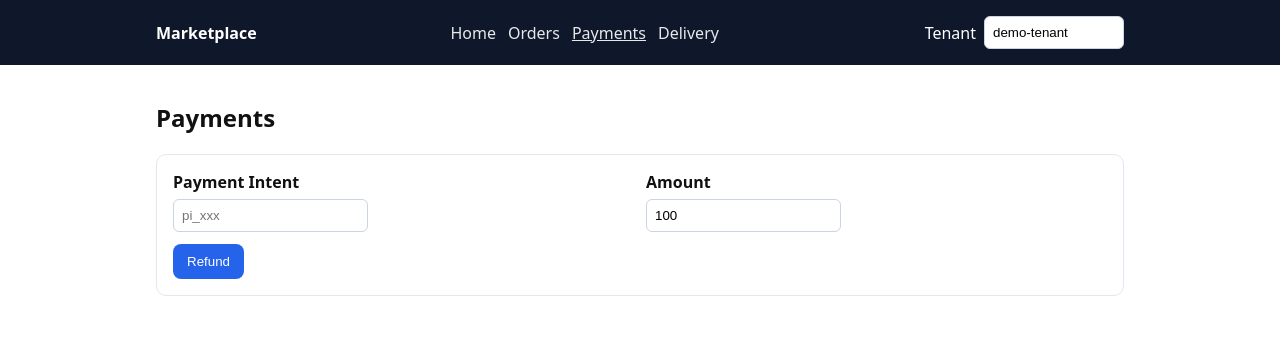
PaymentsPage › refunds payment
This screenshot has width=1280, height=350.
Type "pi_1" into the field labelled "Payment Intent".
click(270, 215); type("pi_1")  # box x1=173 y1=199 x2=368 y2=232
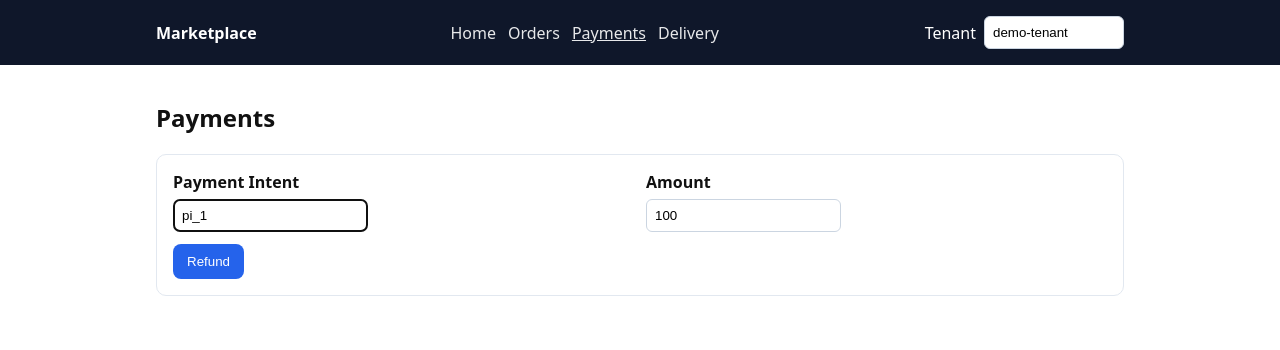
Click the button "Refund".
click(208, 261)  # box x1=173 y1=244 x2=244 y2=279
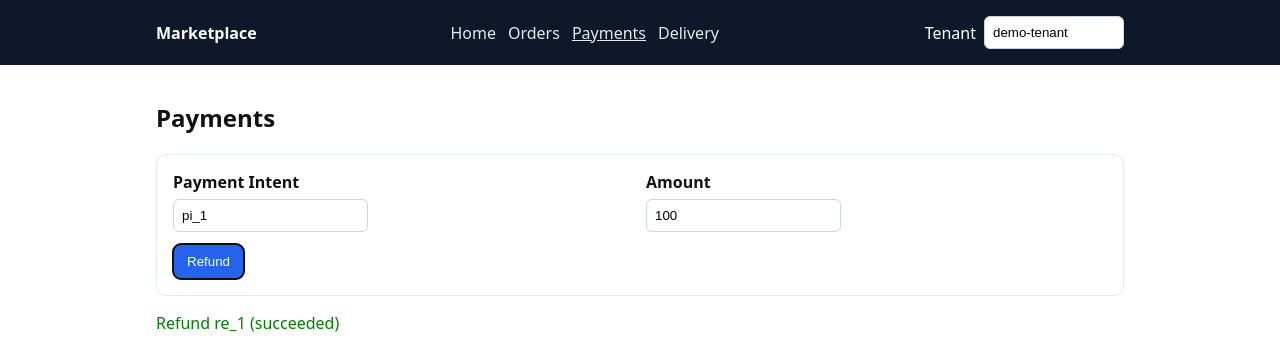
expect the text "Refund re_1 (succeeded)" is shown: met, box x1=156 y1=312 x2=339 y2=334
